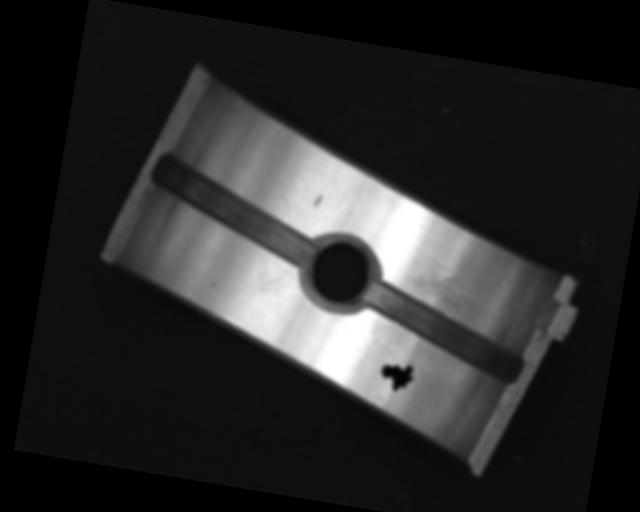blot: (376, 359, 418, 395)
bruise: (313, 193, 324, 210)
gap: (143, 154, 326, 268), (353, 282, 533, 385)
hole: (299, 234, 380, 318)
scratch: (393, 263, 504, 332)
